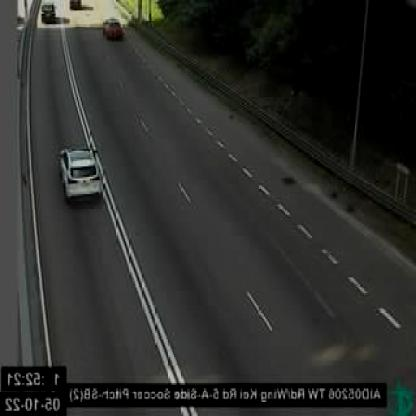Car: (56, 146, 101, 204), (103, 17, 125, 38)
